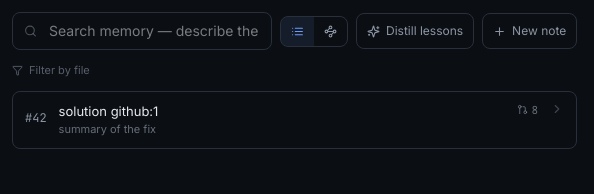
it: MemoryBrowser — lesson backfill (#256) › runs the backfill, reports the count and reloads the list
Expected: the text "solution github:1" is shown, [59,102,158,118]
Click the button "Distill lessons". click: (415, 31)
box: [356,13,474,49]
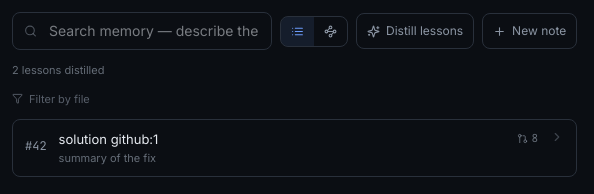
Now the text "2 lessons distilled" is shown, box [12,63,104,77]
